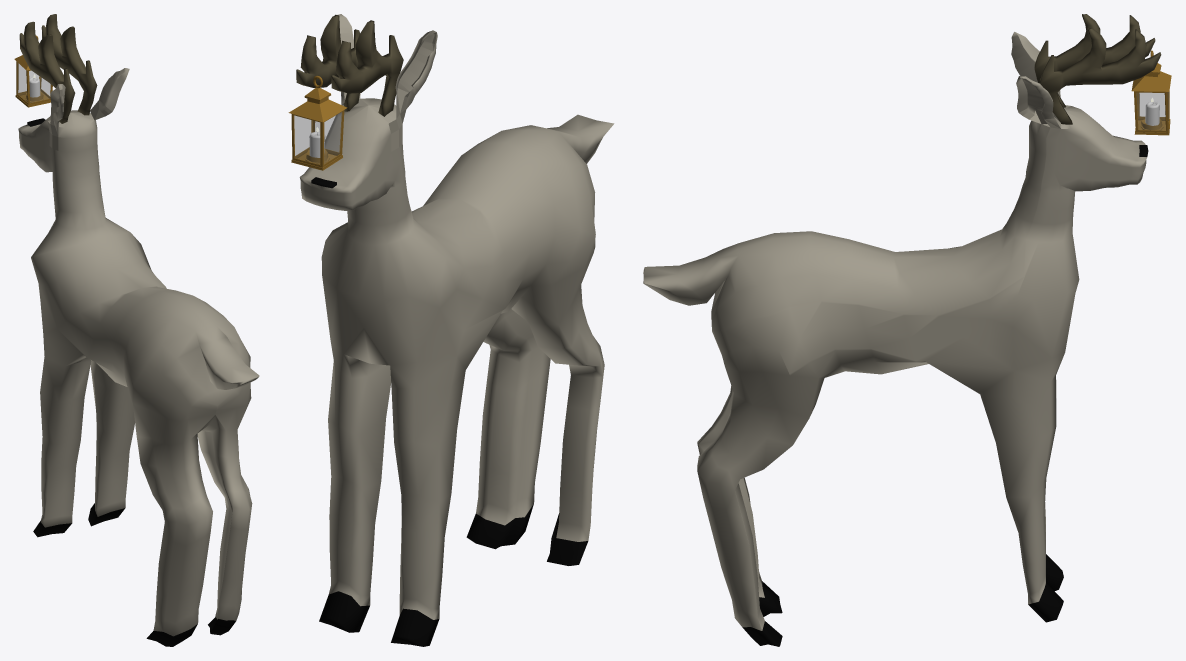
File: CustomDeer.fbx
3 renders of one model, left to right at view 1: azimuth 30°, elevation 25°; view 2: azimuth 150°, elevation 25°; view 3: azimuth 270°, elevation 25°, orthographic. The views are drawn at different scales.
Visible parts, largest first — view 1: deer, lantern; view 2: deer, lantern; view 3: deer, lantern.
Part boxes in pixels (x1,y1,x2,y2): deer: (18, 14, 259, 646); lantern: (14, 35, 52, 107); deer: (296, 14, 614, 646); lantern: (288, 75, 347, 170); deer: (643, 14, 1161, 646); lantern: (1131, 50, 1171, 135).
Bounding box in the file's own units: 1.19 × 4.98 × 3.91.
